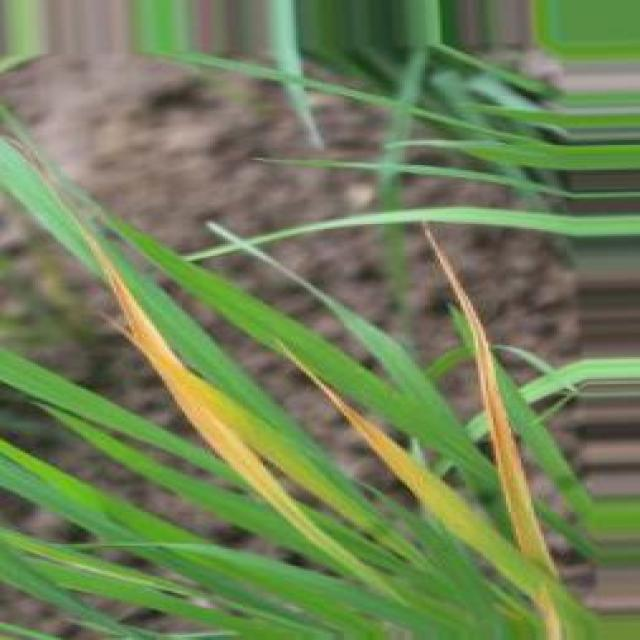Rice Tungro: (89, 234, 391, 594), (286, 351, 556, 639), (425, 224, 556, 569)
